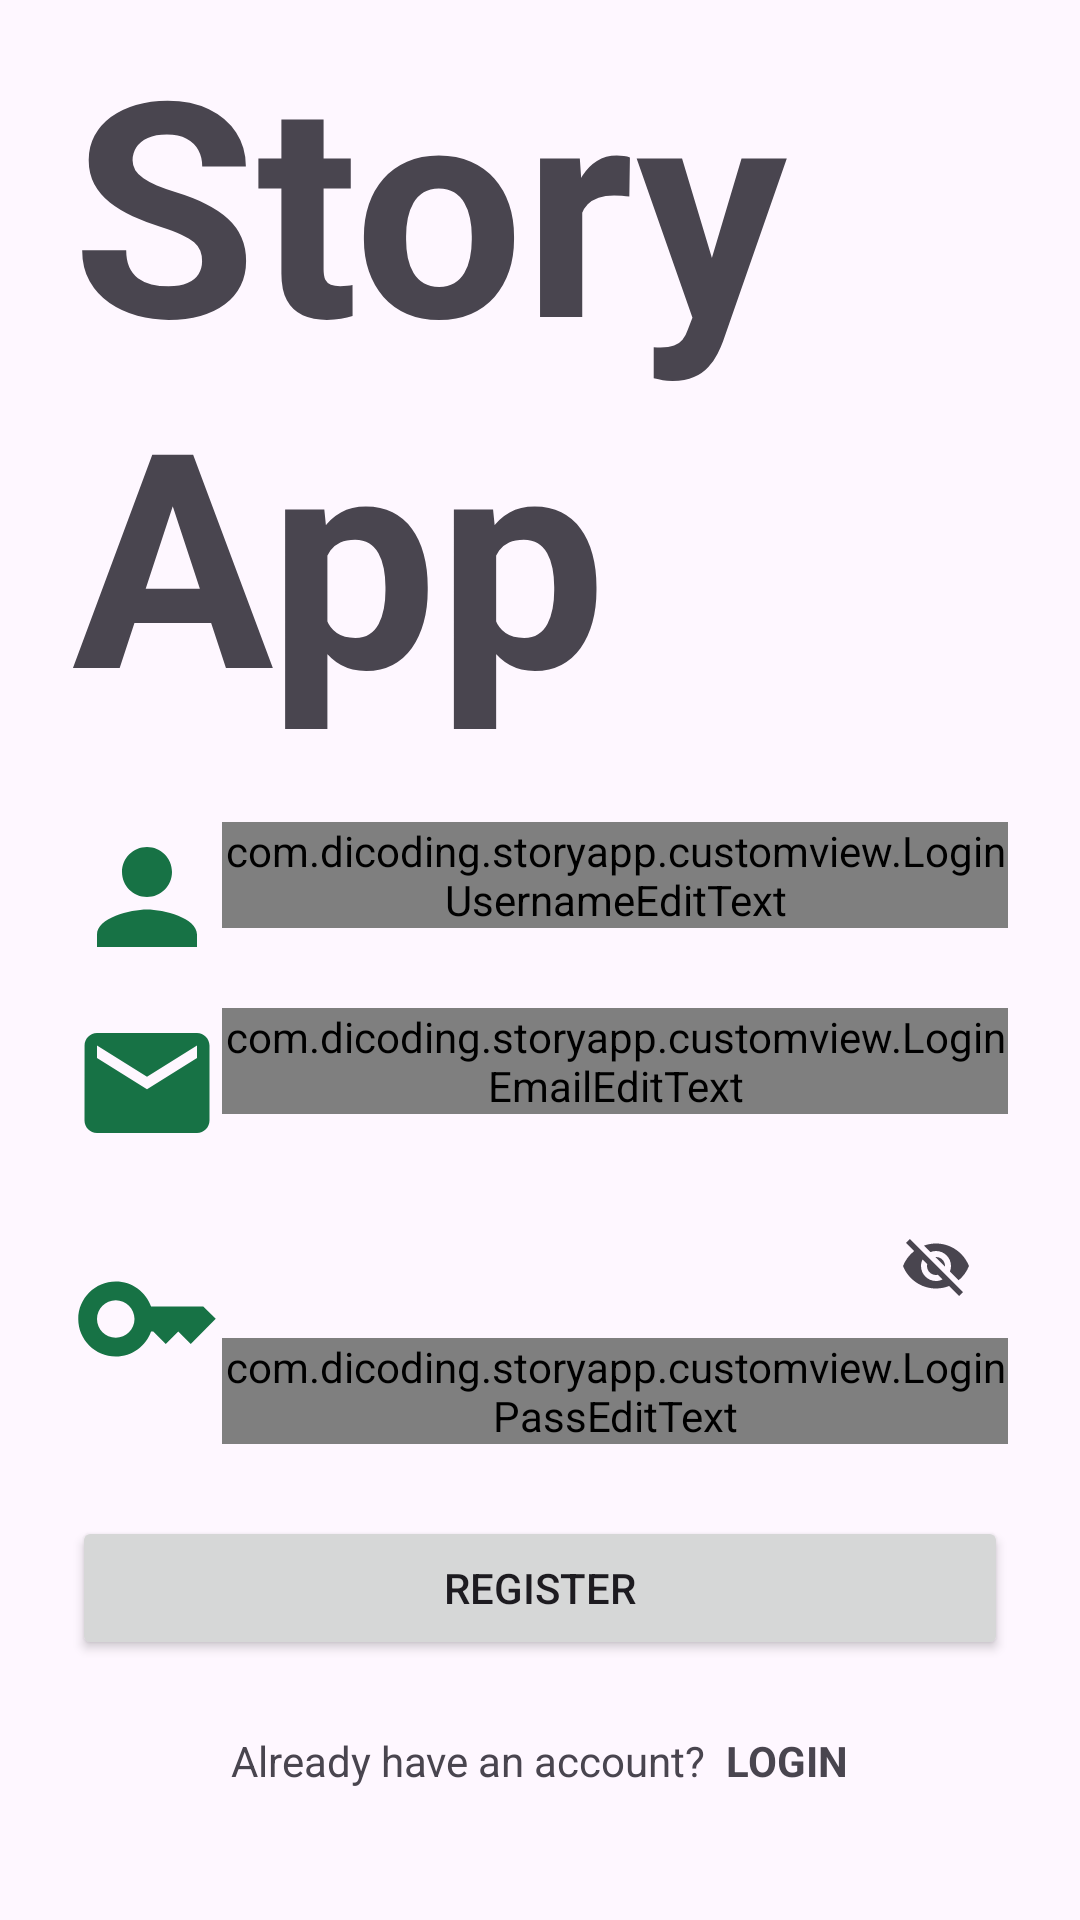

Screen size 1080x1920. Icon name, then its center in pixels as [x,y]:
key: [147,1319]
person: [147,897]
